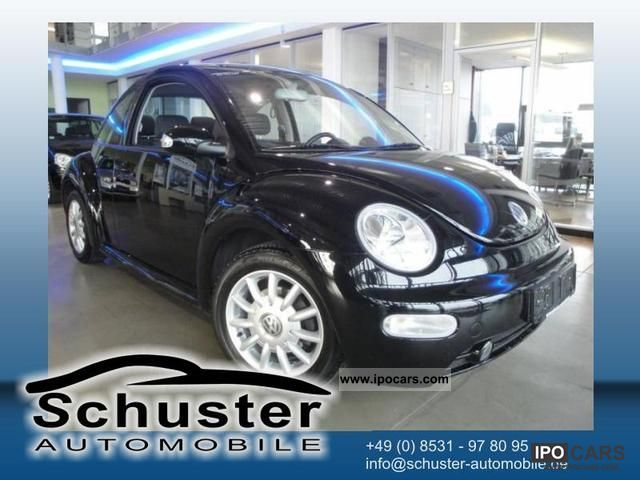front_view: (355, 73, 474, 163)
headlight: (373, 78, 441, 117)
